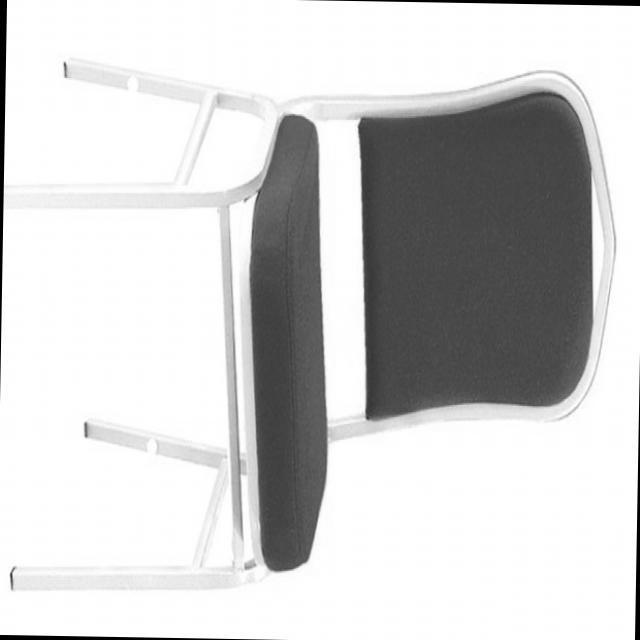chair: (0, 47, 619, 606)
